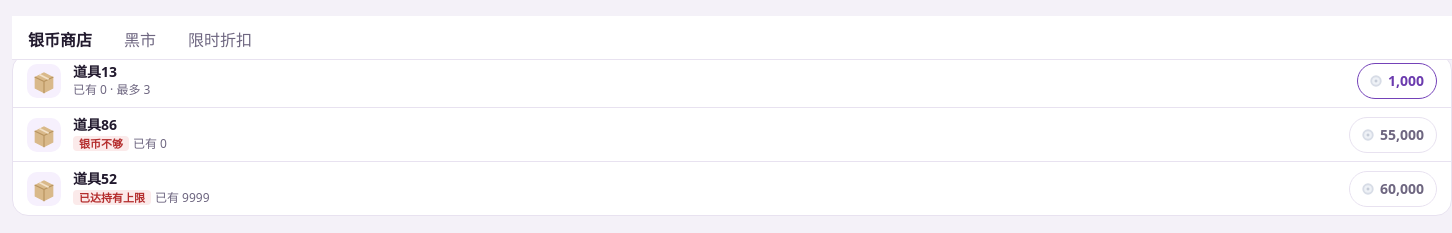
it: ShopView（问题记录：商店不显示最大可购买数量） › 特价标签按实际折扣写（不低于卖店价时五折档实际是七折，backlog 2026-10-25）
This screenshot has width=1452, height=233.
Step 1. Click the tab with class "nav-link" showing "限时折扣" → point(220, 40), box [172,20,268,60]
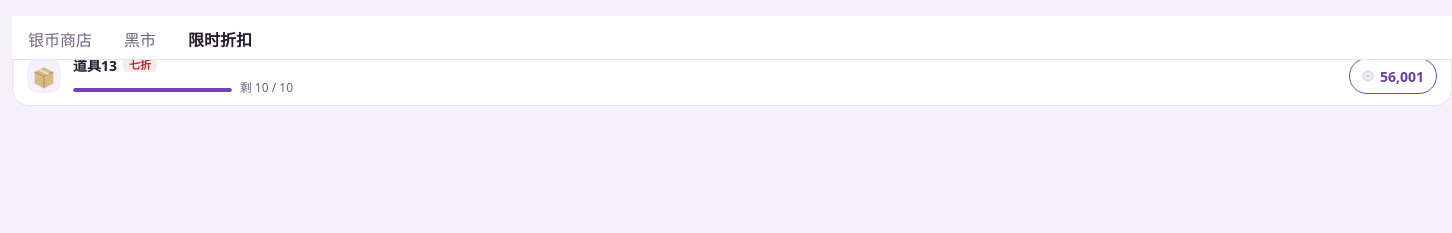
Expected: the text with class "dt-tag-danger" reads "七折", [129,56,151,72]
